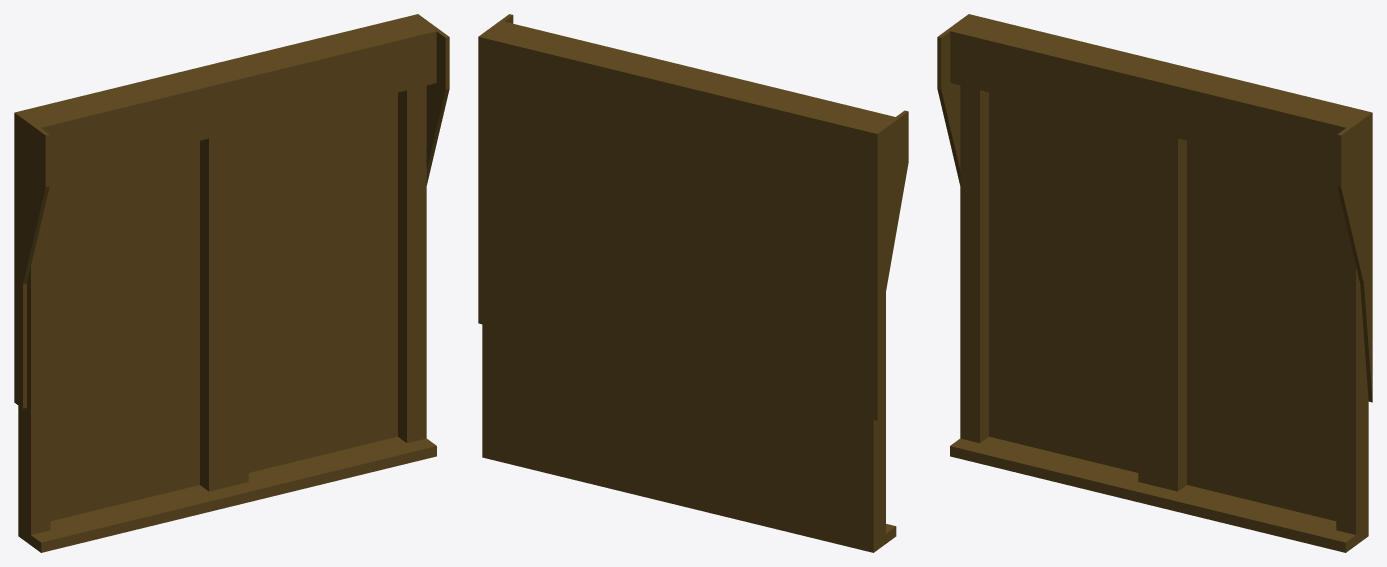
Rendered from DisplayBoard_Two.fbx.
3 renders of one model, left to right at view 1: azimuth 30°, elevation 25°; view 2: azimuth 150°, elevation 25°; view 3: azimuth 330°, elevation 25°, orthographic.
Parts seen in each view (by area): view 1: DisplayStand_Two; view 2: DisplayStand_Two; view 3: DisplayStand_Two.
Part boxes in pixels (x1,y1,x2,y2): DisplayStand_Two: (14, 14, 449, 552); DisplayStand_Two: (478, 14, 908, 552); DisplayStand_Two: (937, 14, 1372, 552).
Bounding box in the file's own units: 1020 × 1025 × 137.
